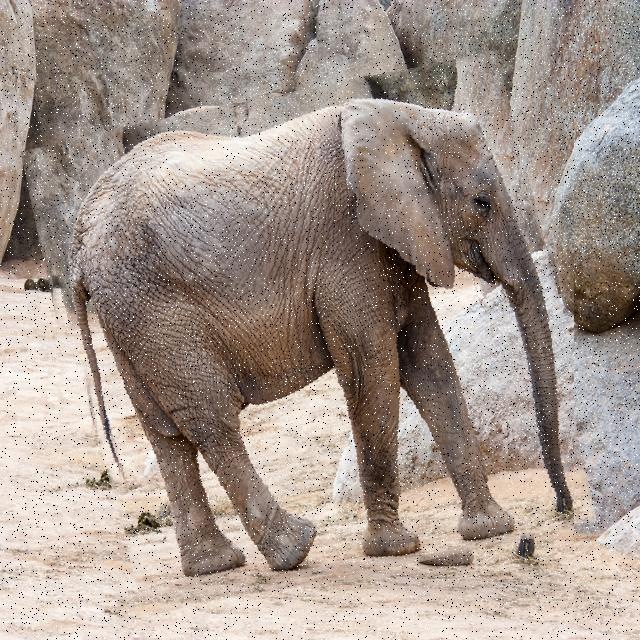elephant: (43, 72, 574, 599)
